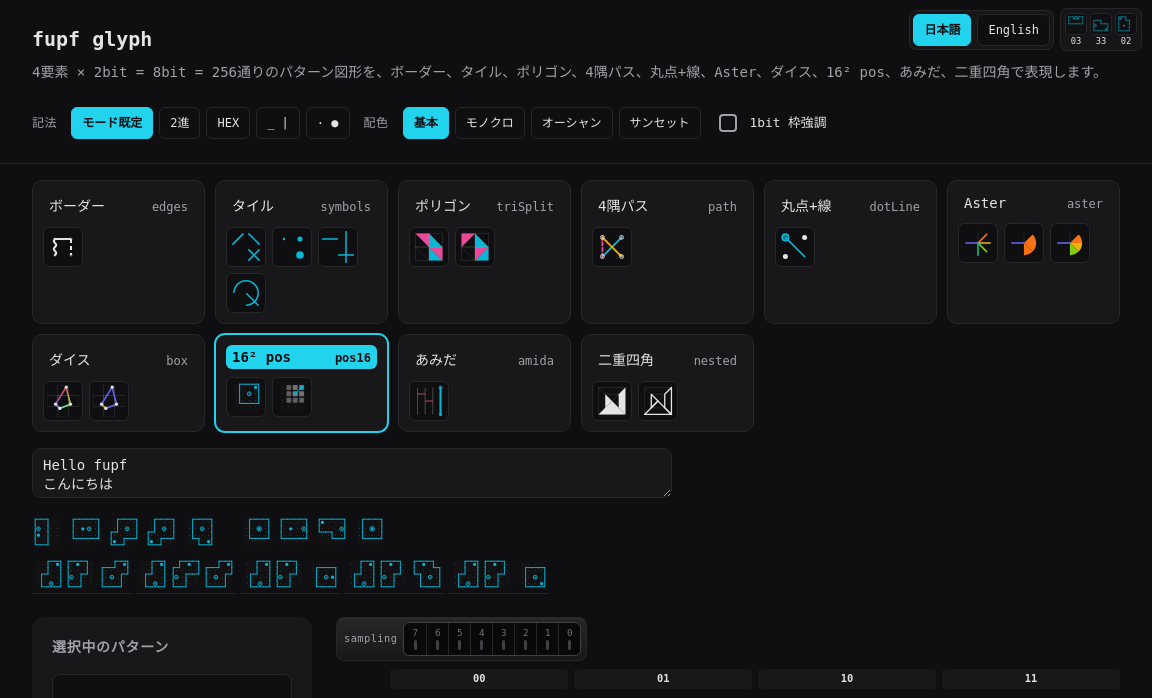
Test case: App › switches the UI language and keeps it
Click the radio button labelled "English" at (1014, 30), box [977,14,1050,46]
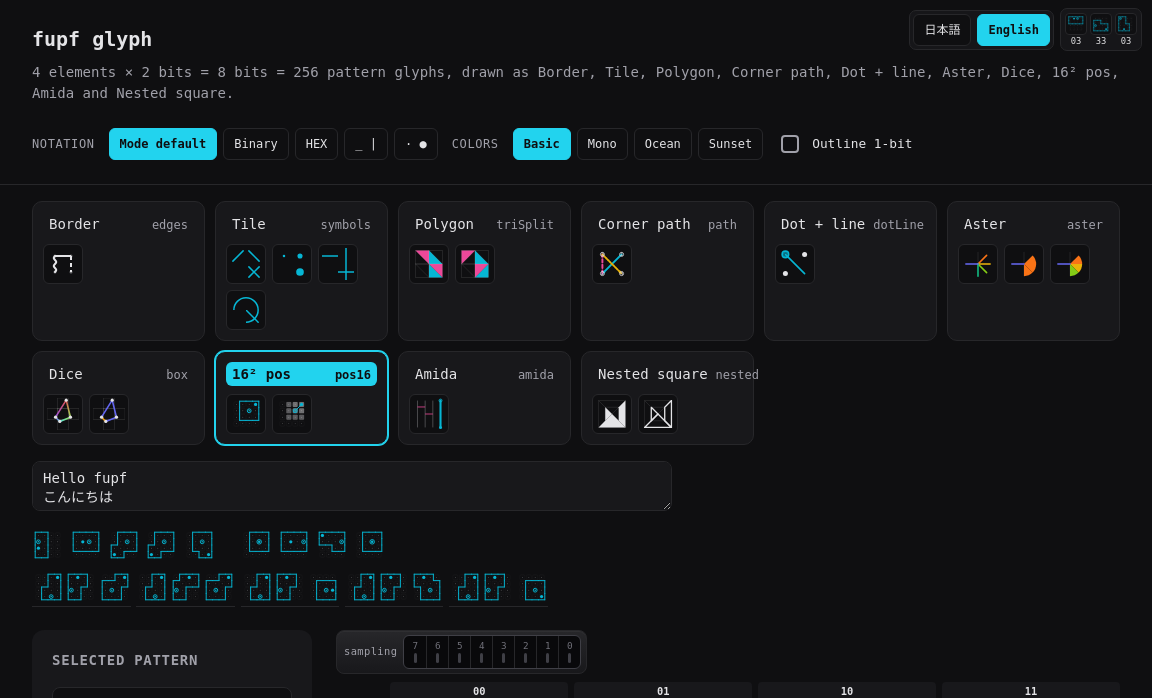
Expected: the button "Amida amida" is shown, [409,362,560,386]
Result: the heading "Selected pattern" is shown at [52,652,198,668]
